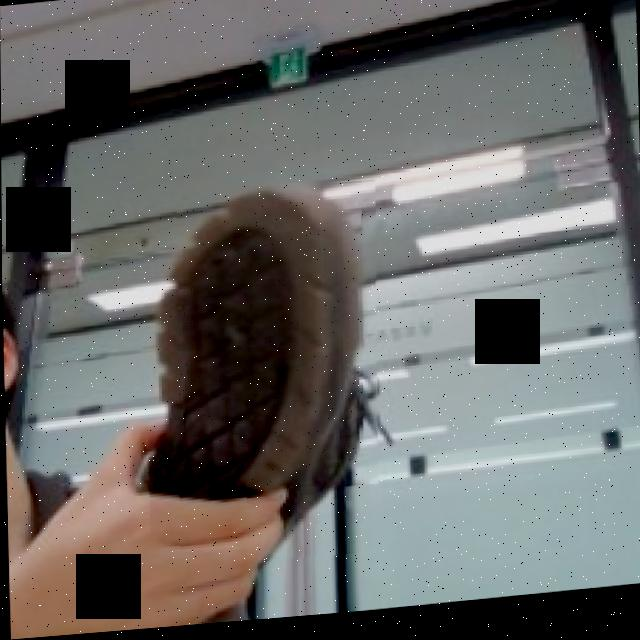shoe: (141, 182, 385, 631)
